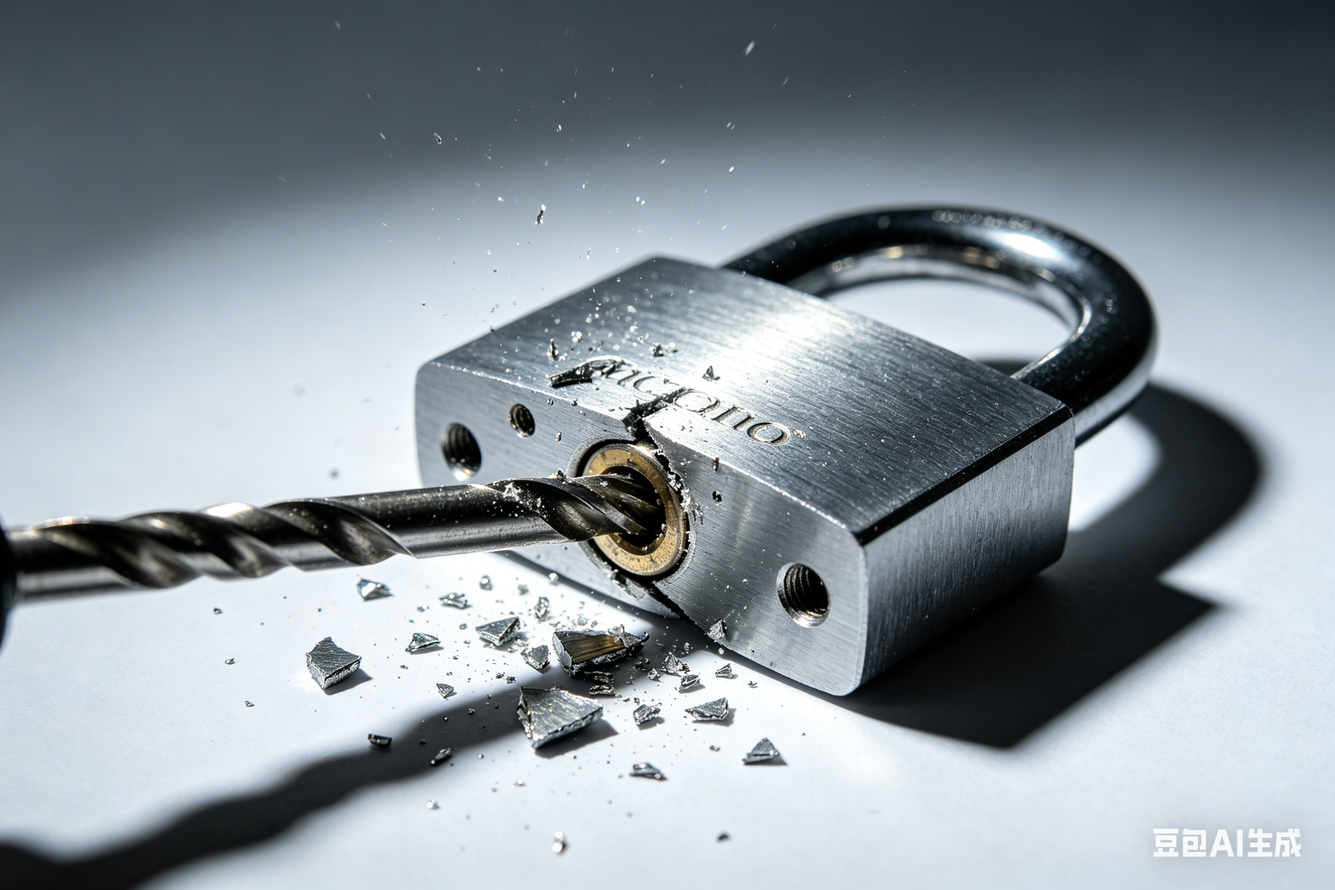BadLock: (506, 350, 768, 618)
